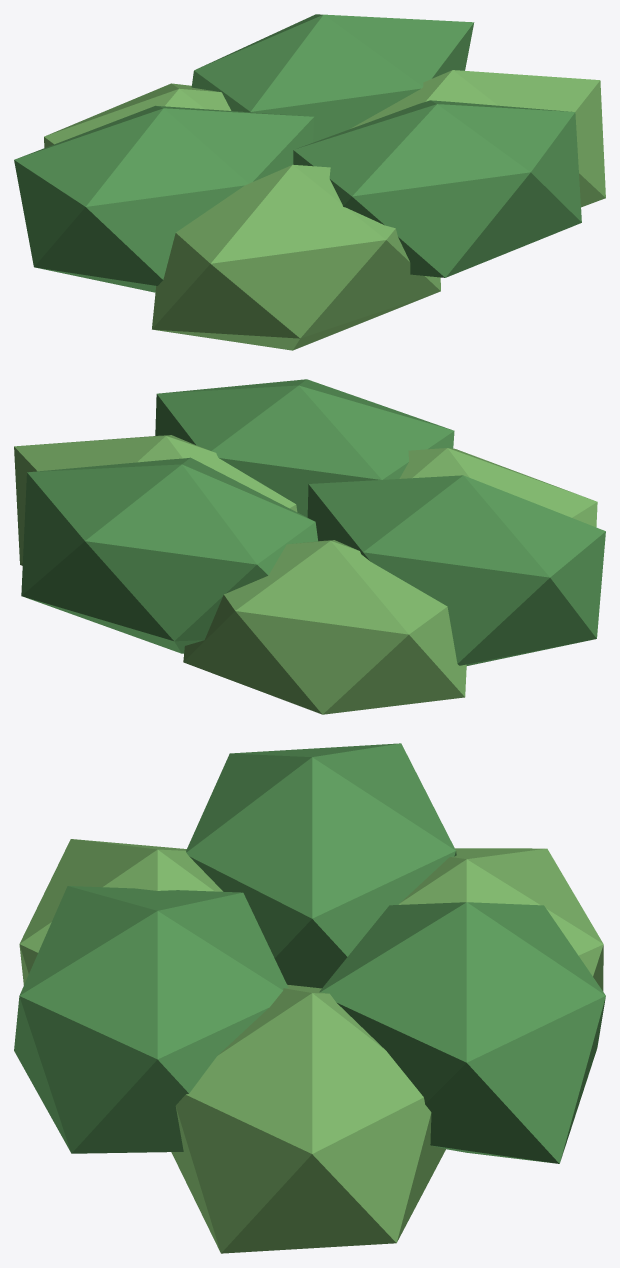
The model's file is bush_03.glb.
The picture shows the model from 3 angles, top to bottom: view 1: azimuth 30°, elevation 25°; view 2: azimuth 150°, elevation 25°; view 3: azimuth 270°, elevation 25°; orthographic projection. The views are drawn at different scales.
Parts seen in each view (by area): view 1: Bush_03; view 2: Bush_03; view 3: Bush_03.
Boxes of the visible parts, bbox=[...] form: Bush_03: bbox=[14, 14, 605, 350]; Bush_03: bbox=[14, 379, 605, 714]; Bush_03: bbox=[14, 743, 605, 1253].
Bounding box in the file's own units: 2.74 × 1.01 × 1.82.
